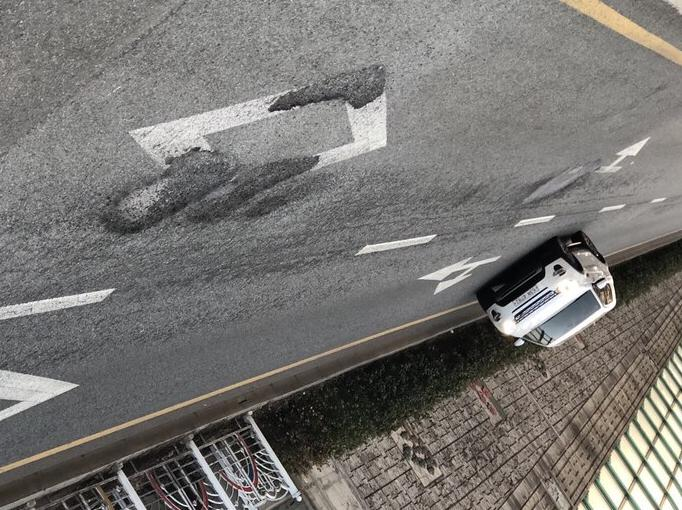pothole: (194, 150, 322, 247), (97, 154, 198, 234), (256, 74, 380, 118), (512, 161, 603, 214)
